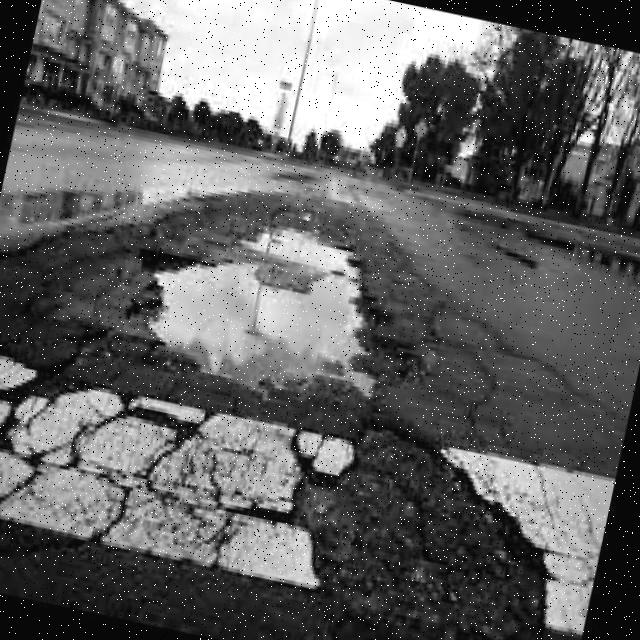pothole: (75, 230, 424, 438)
